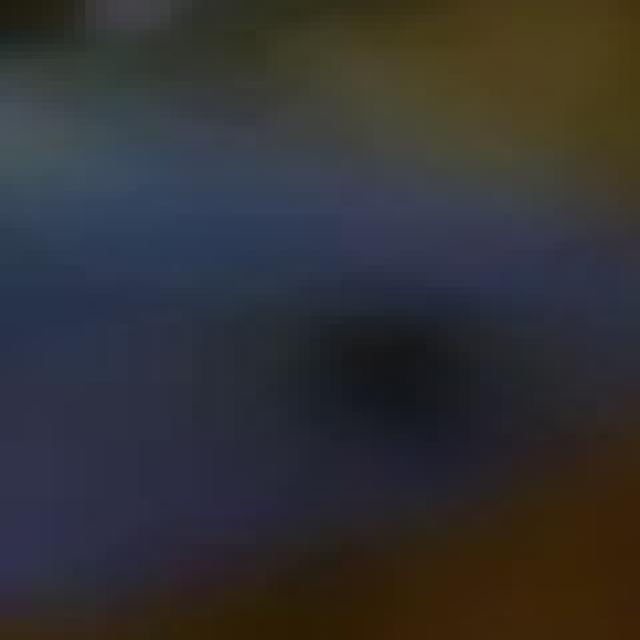fish: (10, 1, 640, 633)
